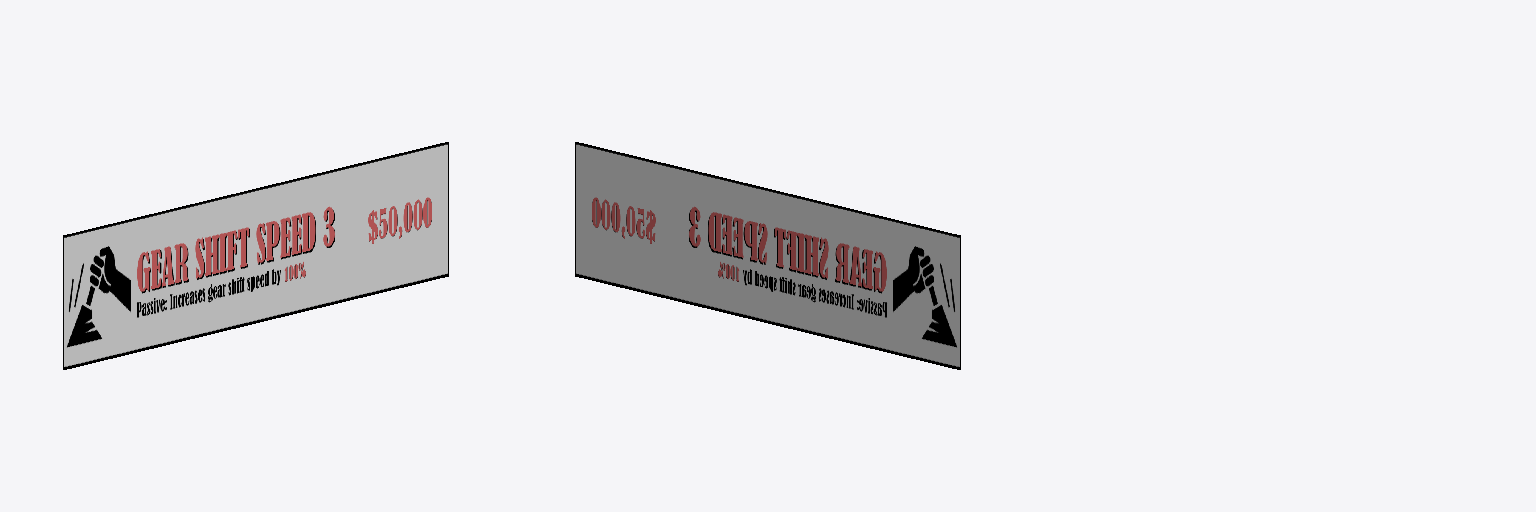
3 renders of one model, left to right at view 1: azimuth 30°, elevation 25°; view 2: azimuth 150°, elevation 25°; view 3: azimuth 270°, elevation 25°, orthographic.
Parts seen in each view (by area): view 1: Plane.004; view 2: Plane.004; view 3: none.
Boxes of the visible parts, x1,y1,x2,y2 form: Plane.004: [63, 142, 448, 369]; Plane.004: [575, 142, 960, 369].
Bounding box in the file's own units: 0.9 × 0.3 × 0.
1 materials, 1 textured.